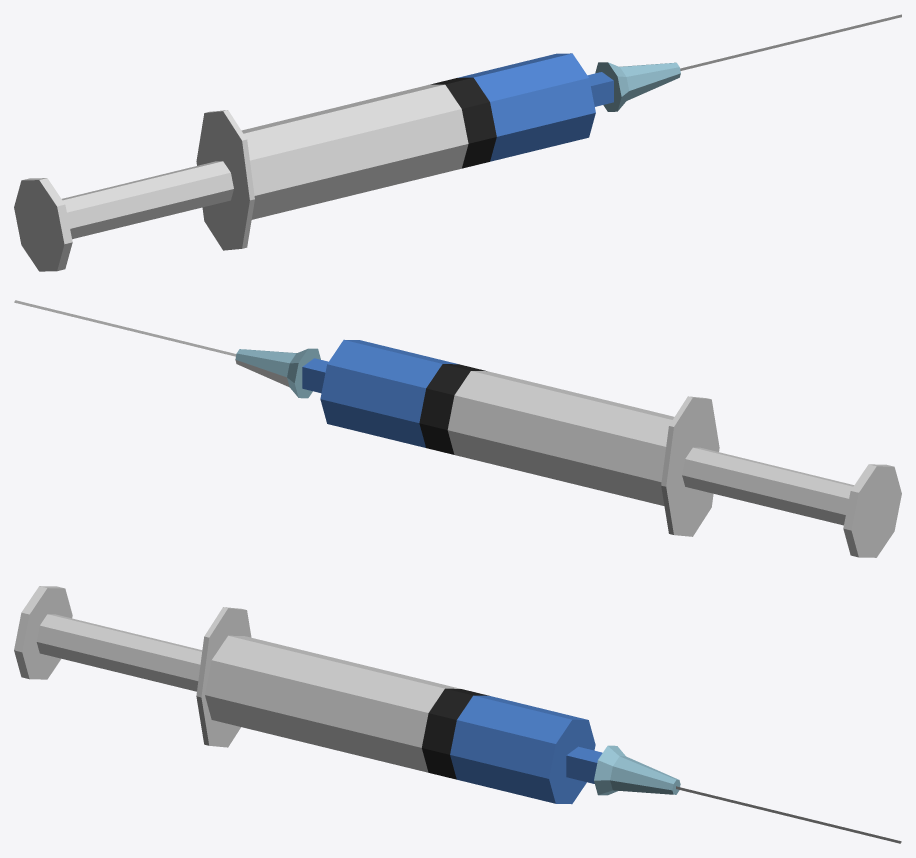
The model's file is Syringe_mat.fbx.
The picture shows the model from 3 angles, top to bottom: view 1: azimuth 30°, elevation 25°; view 2: azimuth 150°, elevation 25°; view 3: azimuth 330°, elevation 25°; orthographic projection.
Parts seen in each view (by area): view 1: Syringe_mat; view 2: Syringe_mat; view 3: Syringe_mat.
Boxes of the visible parts, x1,y1,x2,y2 form: Syringe_mat: (14, 14, 901, 271); Syringe_mat: (14, 300, 901, 557); Syringe_mat: (14, 586, 901, 843).
Size of the model in its own units: 12.14 by 1.88 by 1.3.
